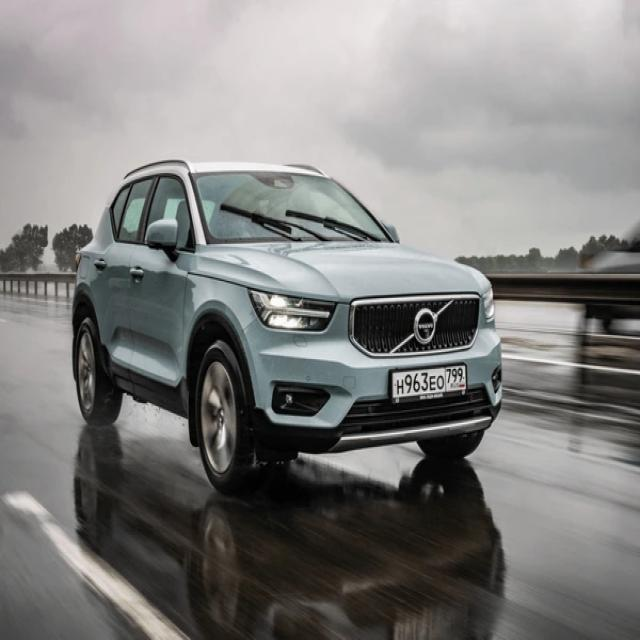volvo: (412, 305, 441, 344)
